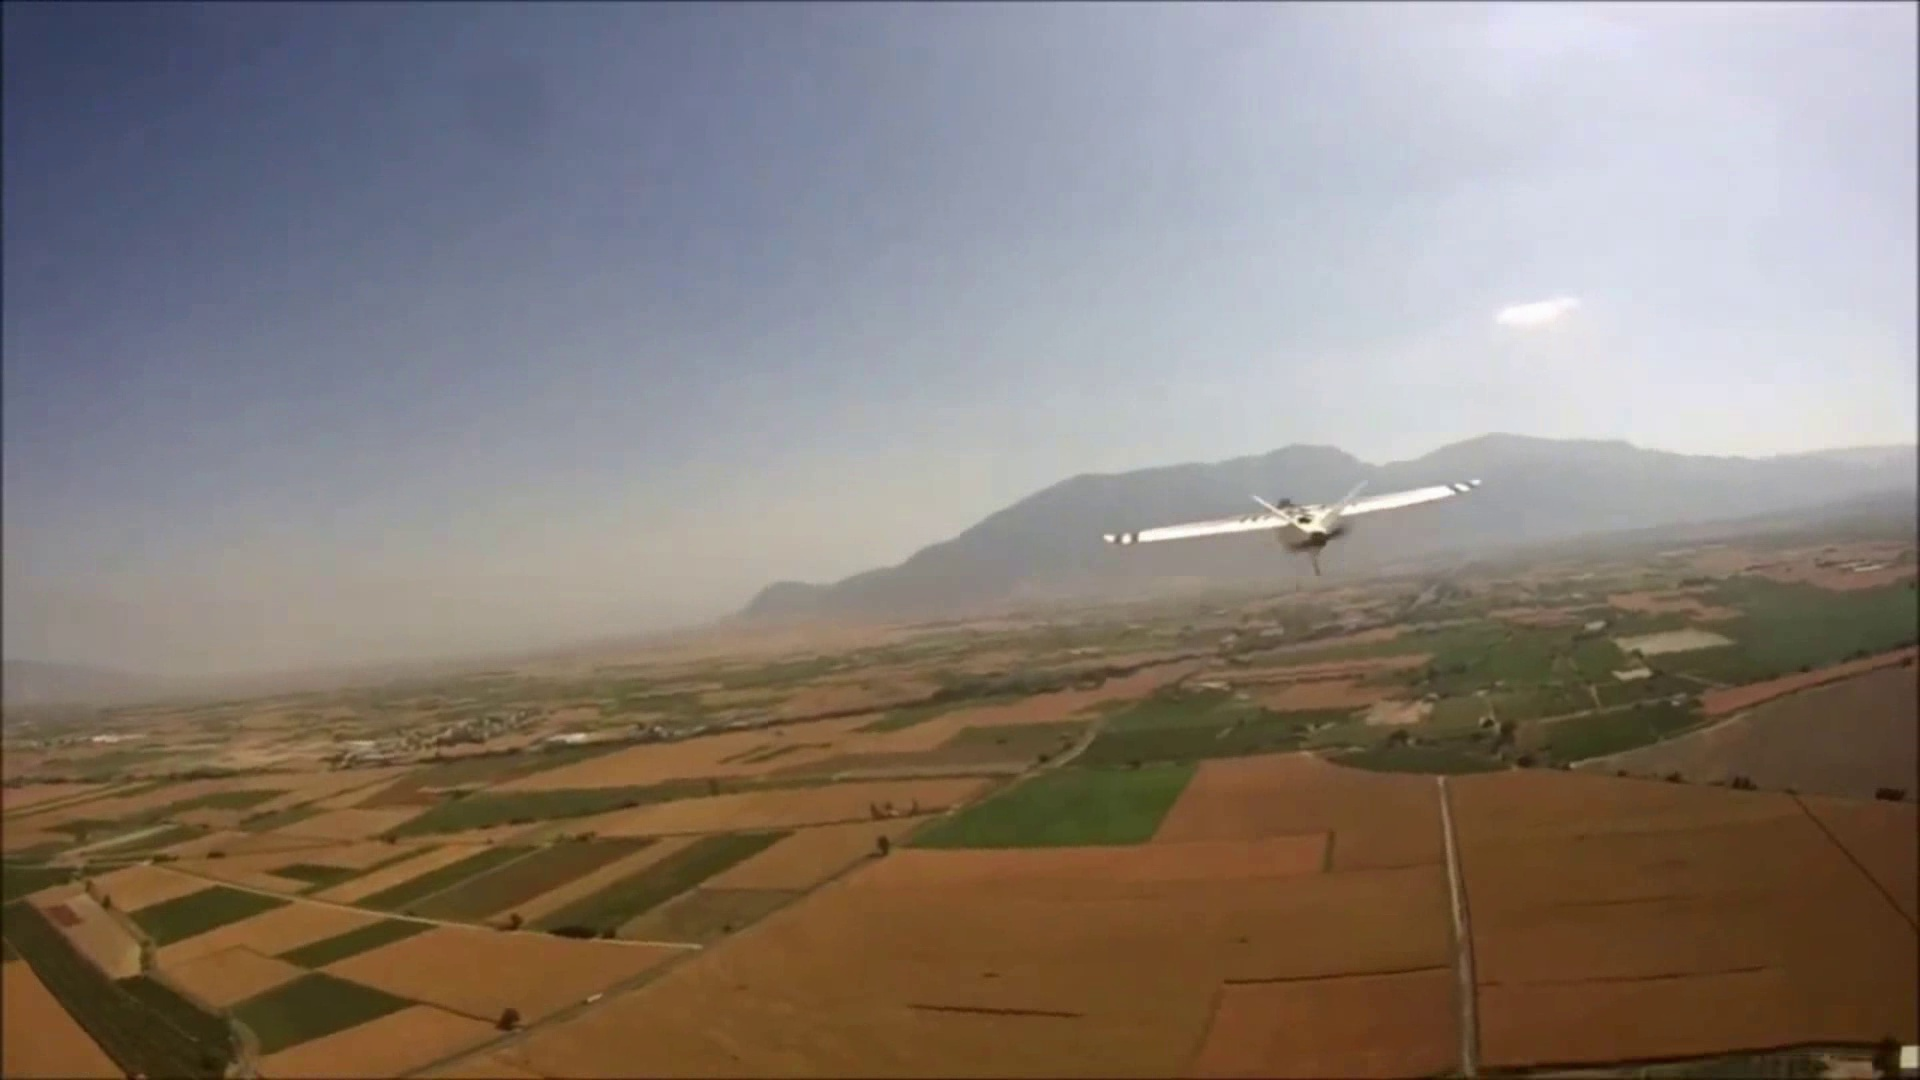airplane: (1106, 441, 1480, 559), (1105, 482, 1480, 561)
